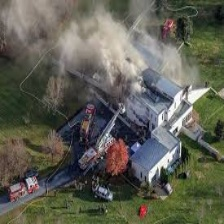smoke: (9, 2, 148, 105)
